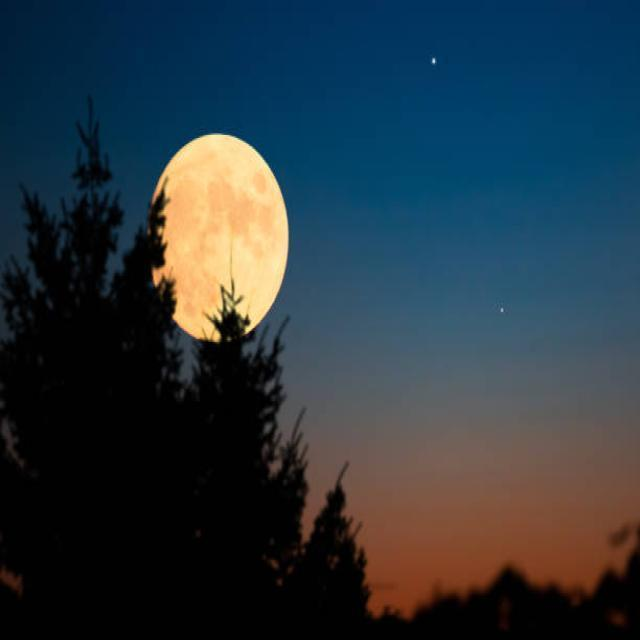moon: (147, 138, 296, 336)
